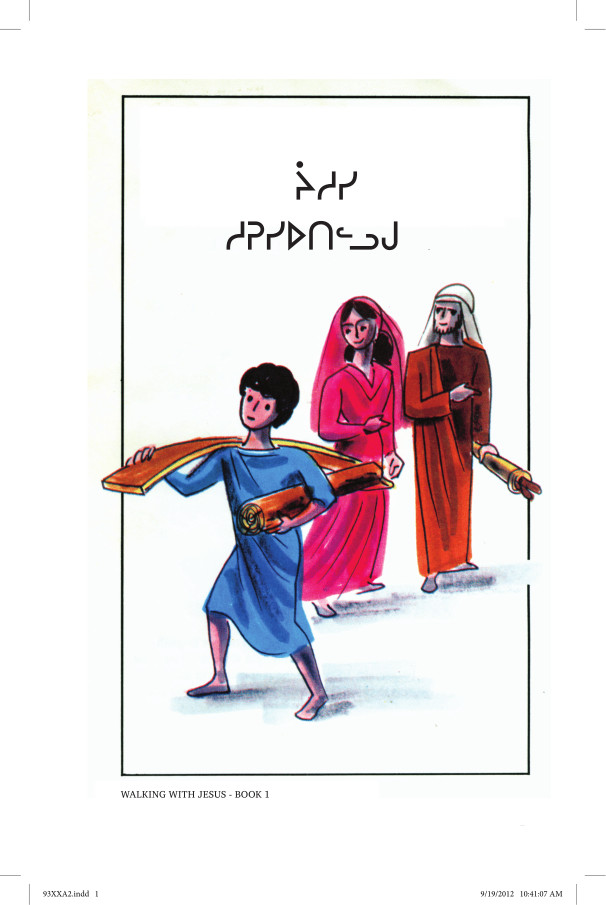inuktitut: (214, 208, 405, 255), (281, 152, 364, 208)
